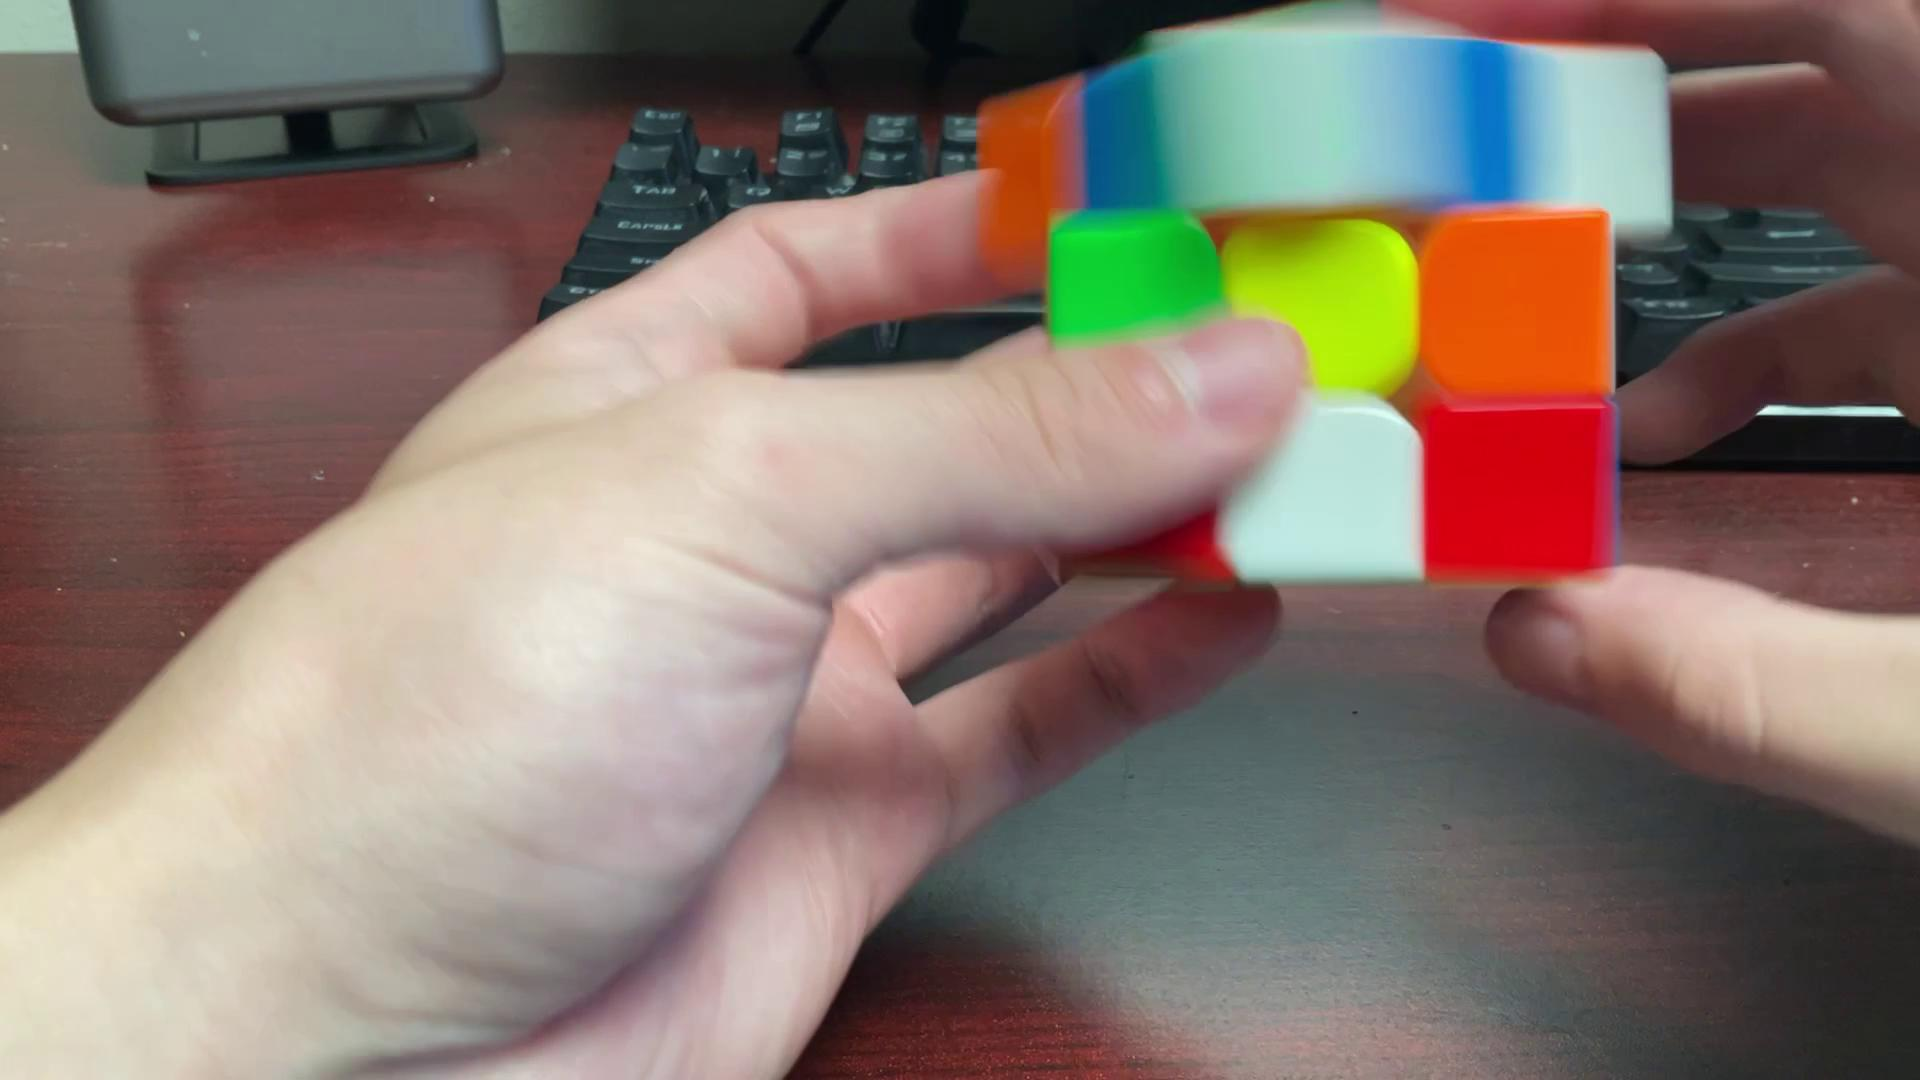Rubiks-Cube: (914, 7, 1685, 611)
